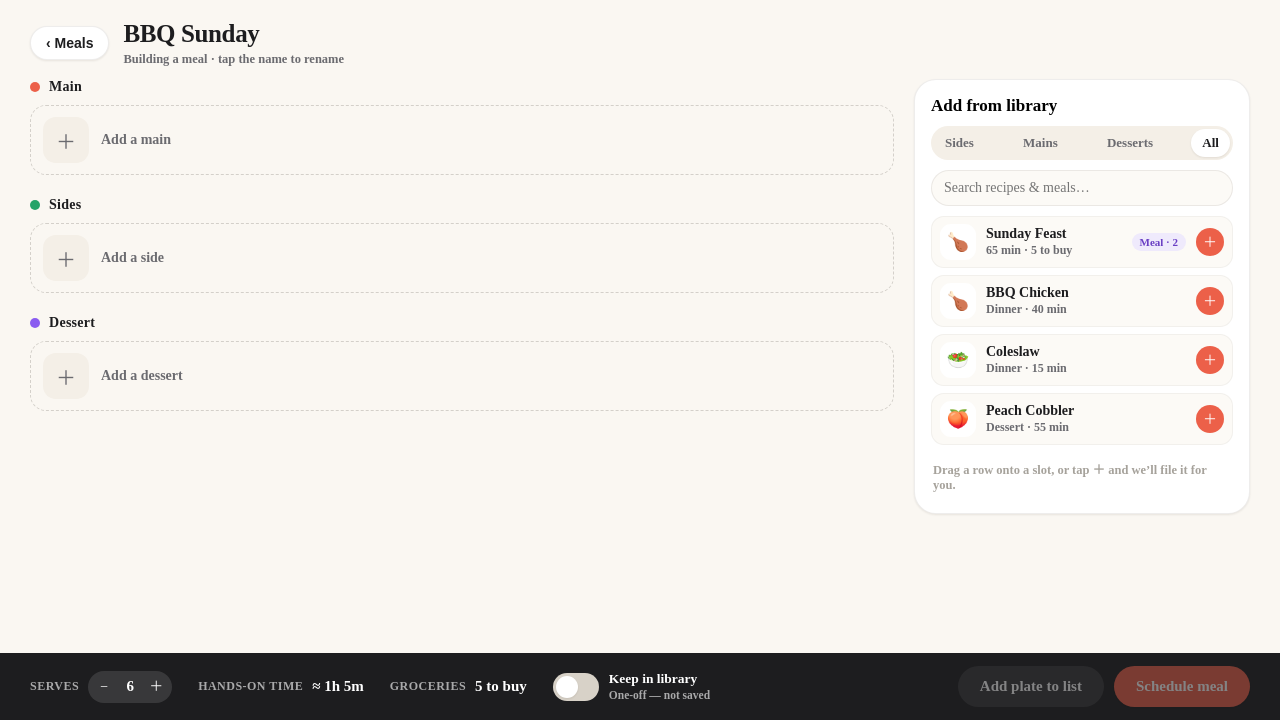
Test: MealBuilder — add from library › badges a saved meal and FLATTENS it into individual dishes when added
Expected: the text "Meal · 2" is shown, [1132,233,1186,251]
Click the button named "Add Sunday Feast": {"x": 1210, "y": 242} [1196,228,1224,256]
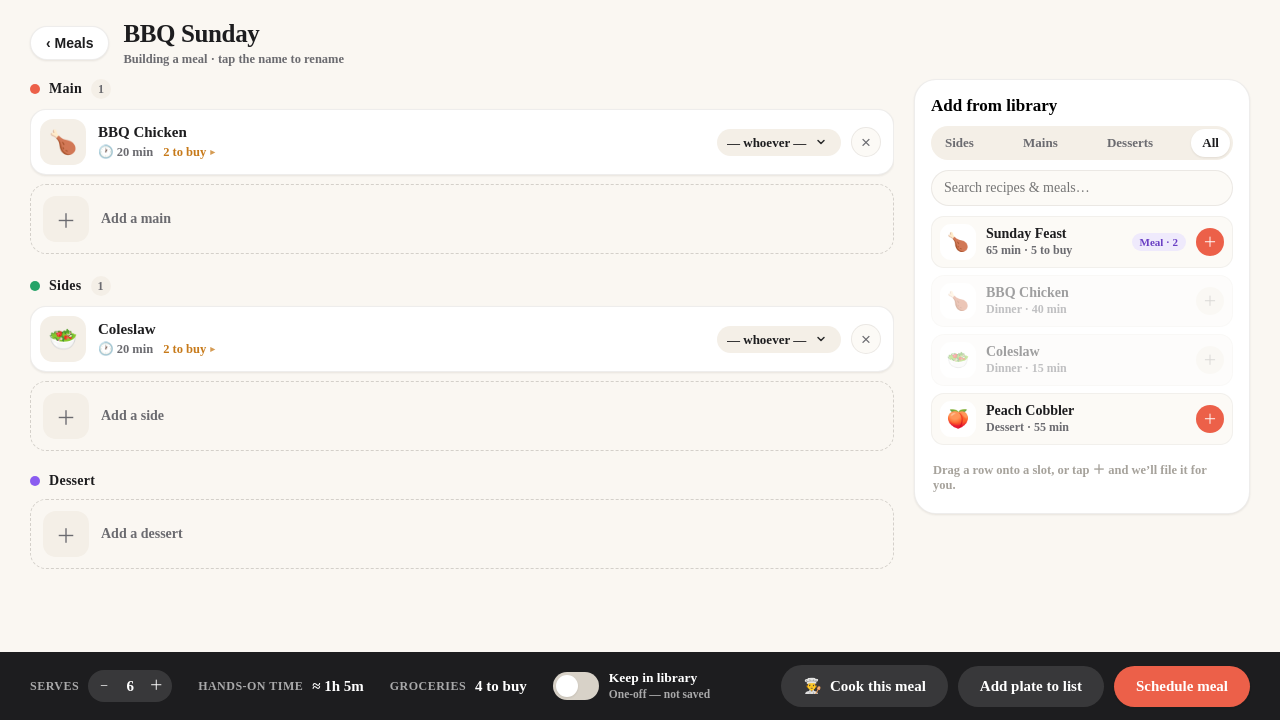
Expected: the 1st text "BBQ Chicken" is shown, [98,124,187,140]
Expected: the 1st text "Coleslaw" is shown, [98,321,156,337]
